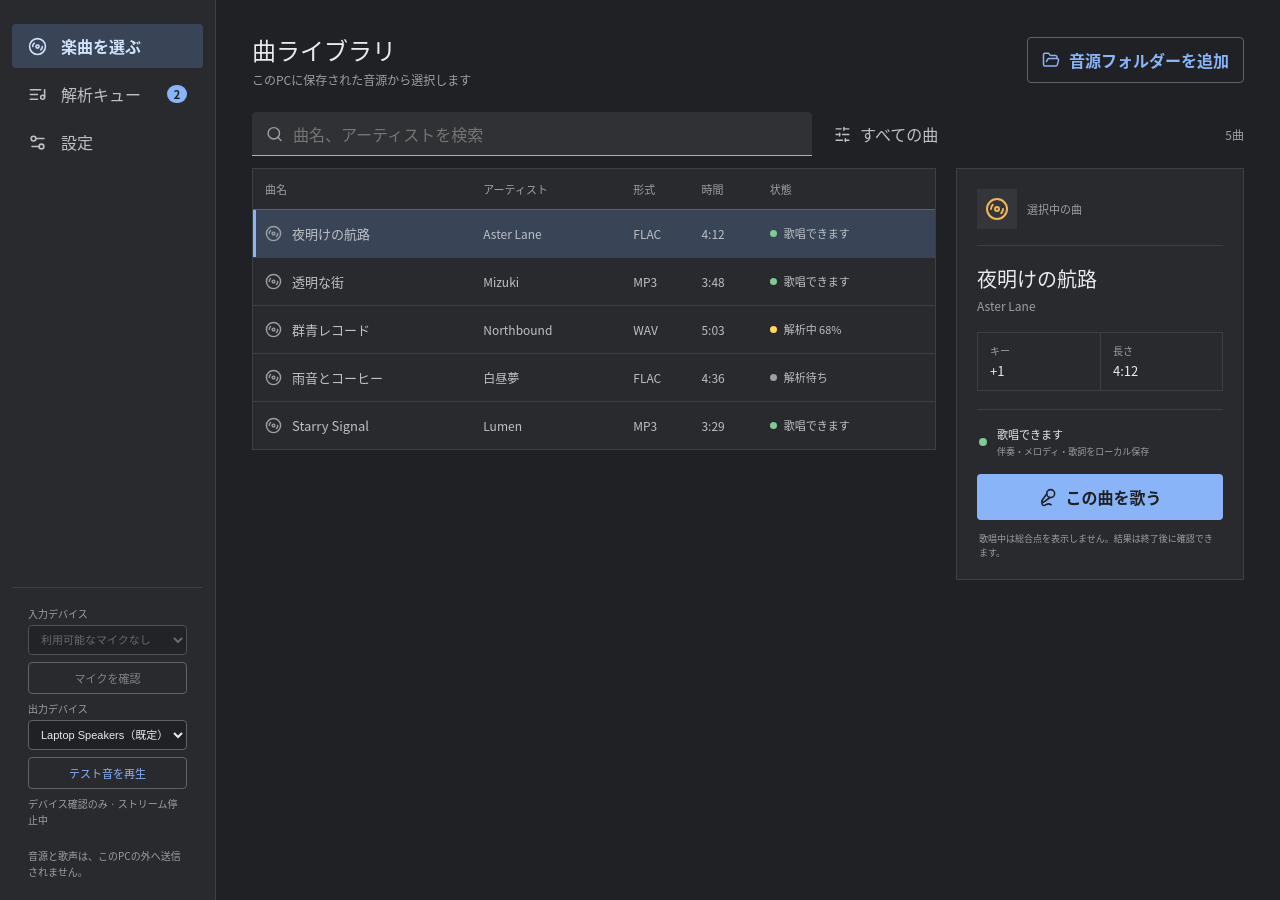
song library › runs a bounded output probe only for the selected output device
Click the button "テスト音を再生". click: click(108, 773)
box: [28,757,187,789]
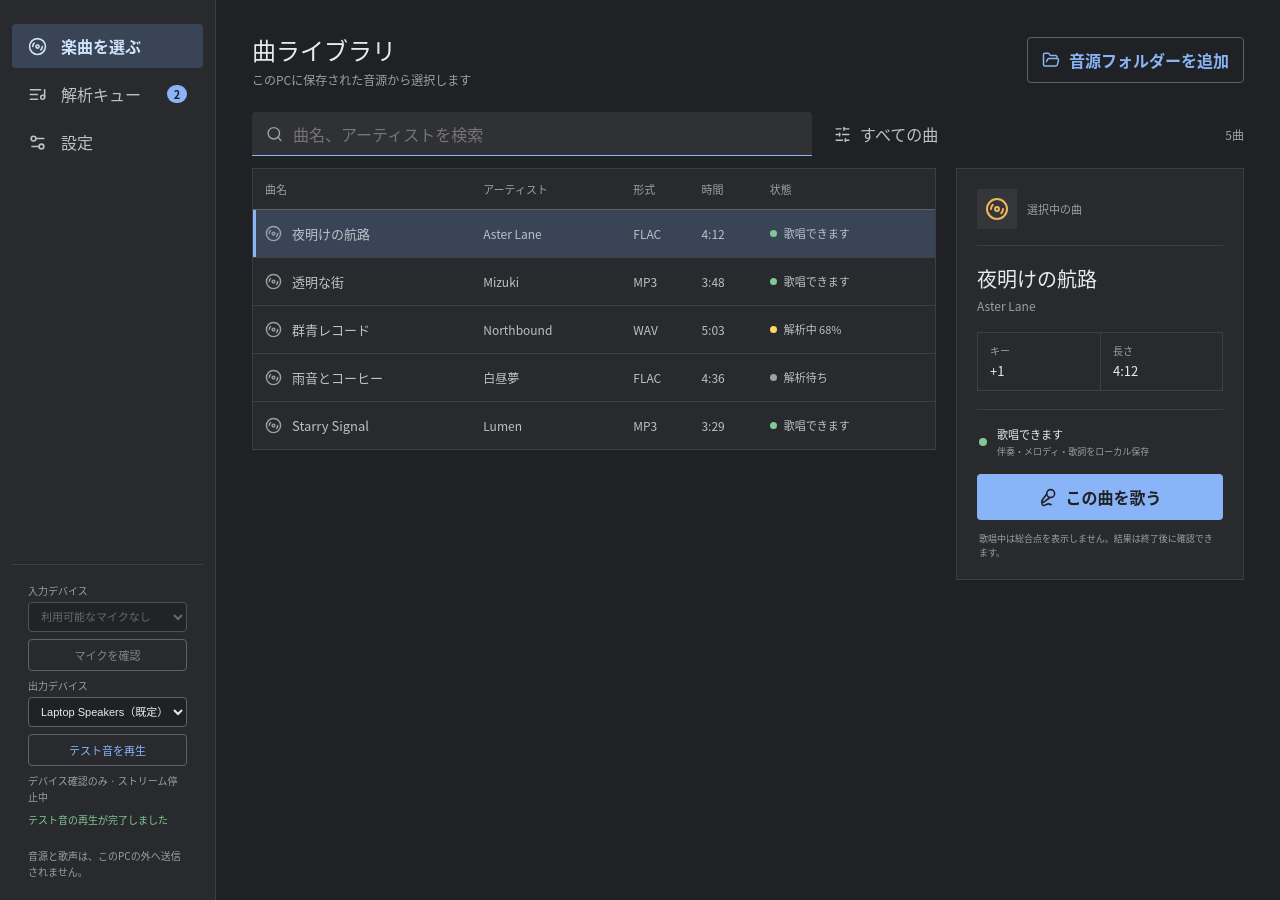
expect the message reads "テスト音の再生が完了しました": met, box [28,812,168,827]
